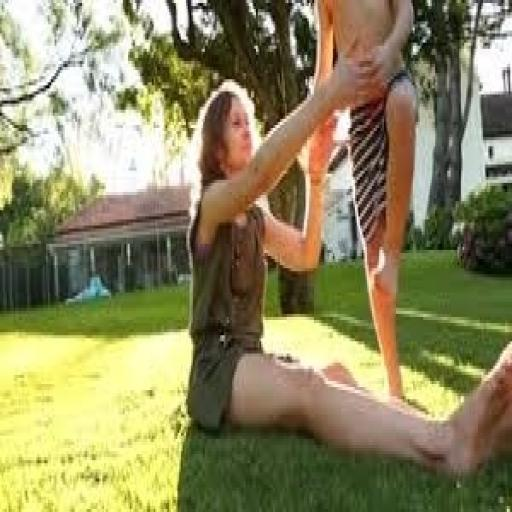hugging: (184, 42, 510, 482)
